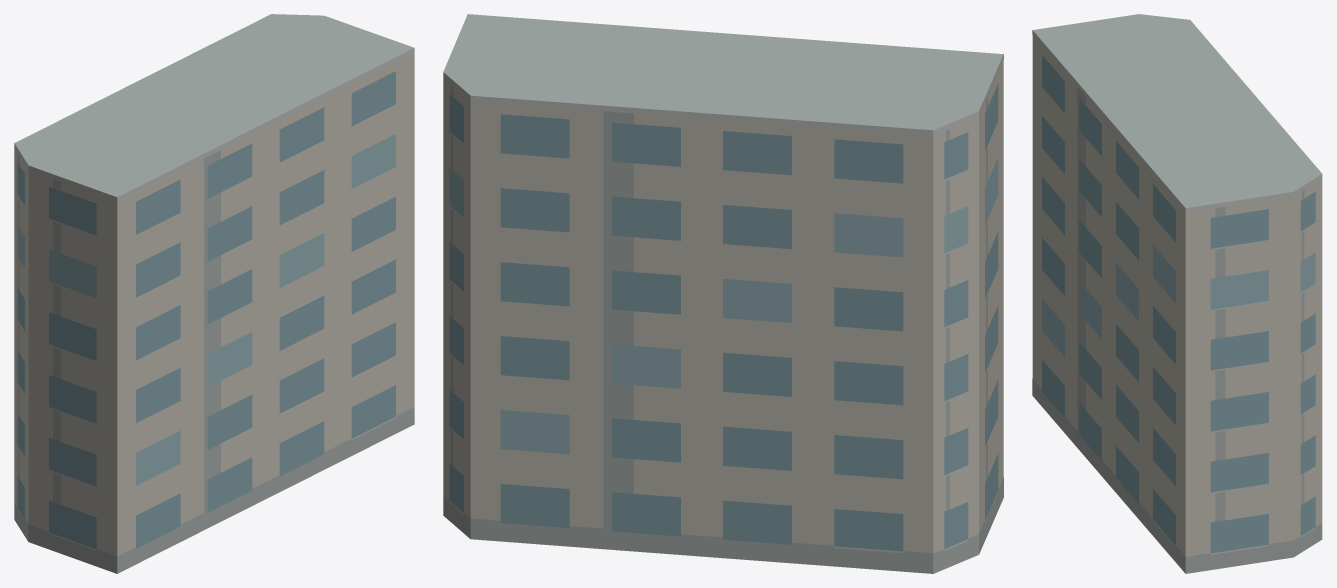
Rendered from survey-upis-33039489.glb.
3 renders of one model, left to right at view 1: azimuth 30°, elevation 25°; view 2: azimuth 150°, elevation 25°; view 3: azimuth 270°, elevation 25°, orthographic. The views are drawn at different scales.
Visible parts, largest first — view 1: survey-upis-33039489.tmp; view 2: survey-upis-33039489.tmp; view 3: survey-upis-33039489.tmp.
Boxes of the visible parts, x1=… form: survey-upis-33039489.tmp: x1=14, y1=14, x2=414, y2=573; survey-upis-33039489.tmp: x1=443, y1=14, x2=1003, y2=573; survey-upis-33039489.tmp: x1=1032, y1=14, x2=1322, y2=573.
Bounding box in the file's own units: 21.55 × 18.9 × 13.59.
